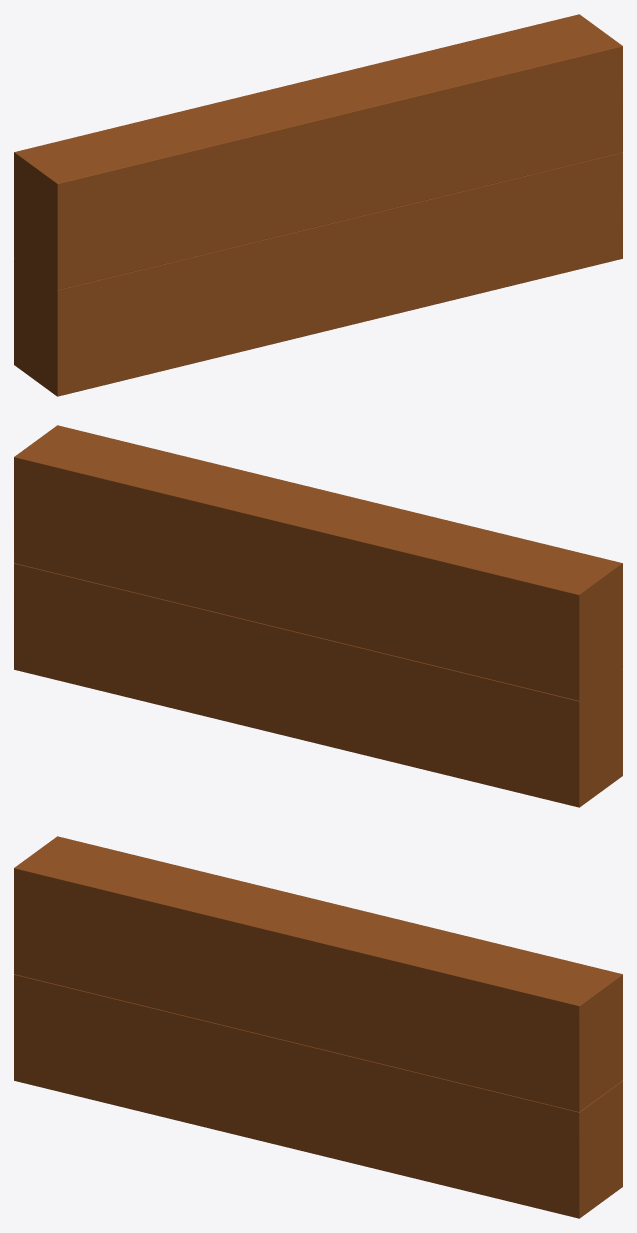
File: frontbalken_end.FBX
The picture shows the model from 3 angles, top to bottom: view 1: azimuth 30°, elevation 25°; view 2: azimuth 150°, elevation 25°; view 3: azimuth 330°, elevation 25°; orthographic projection.
Visible parts, largest first — view 1: frontbalken_end; view 2: frontbalken_end; view 3: frontbalken_end.
Part boxes in pixels (x1=…): frontbalken_end: x1=14, y1=14, x2=622, y2=396; frontbalken_end: x1=14, y1=425, x2=622, y2=807; frontbalken_end: x1=14, y1=836, x2=622, y2=1218.
Bounding box in the file's own units: 8.62 × 3.1 × 1.15.
